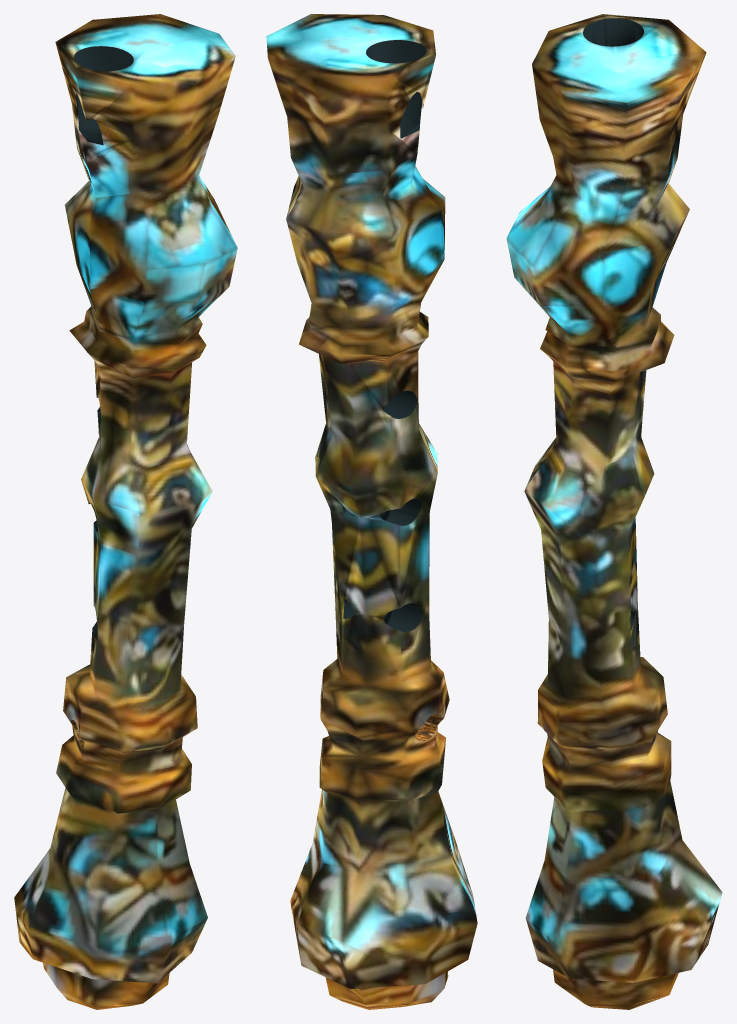
The picture shows the model from 3 angles, left to right: view 1: azimuth 30°, elevation 25°; view 2: azimuth 150°, elevation 25°; view 3: azimuth 270°, elevation 25°; orthographic projection. The views are drawn at different scales.
Parts seen in each view (by area): view 1: LA-14; view 2: LA-14; view 3: LA-14.
Boxes of the visible parts, left/top/right/bottom form: LA-14: left=14, top=14, right=237, bottom=1009; LA-14: left=266, top=14, right=477, bottom=1009; LA-14: left=506, top=14, right=722, bottom=1009.
Size of the model in its own units: 0.0936 by 0.42 by 0.0859.
2 materials, 1 textured.
